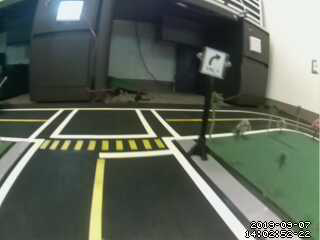Right_only_sign: (203, 39, 226, 83)
